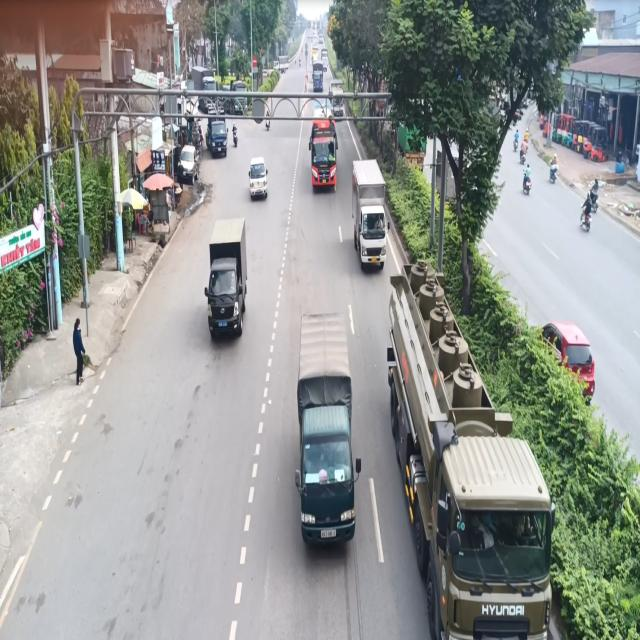bus: (309, 110, 339, 196)
truck: (383, 260, 558, 640), (294, 306, 361, 565), (201, 210, 247, 336), (353, 152, 390, 274)
